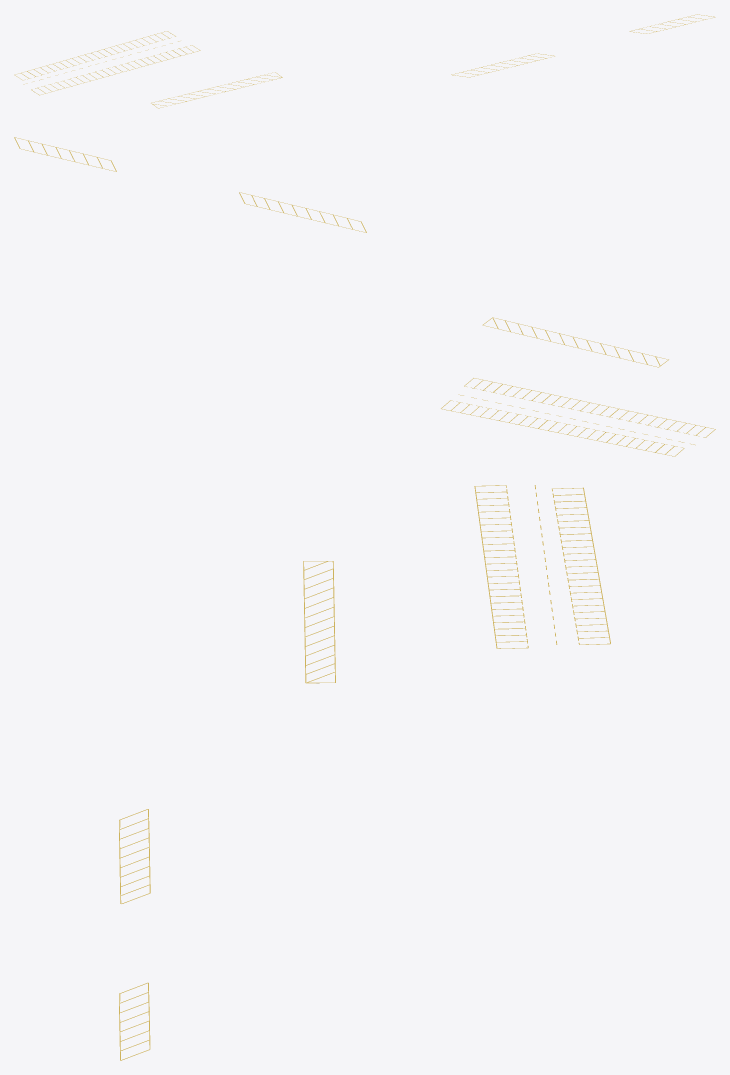
Rendered from 地面標線.fbx.
3 views of the same model, one above another, from view 1: azimuth 30°, elevation 25°; view 2: azimuth 150°, elevation 25°; view 3: azimuth 270°, elevation 25° (orthographic). The views are drawn at different scales.
Visible parts, largest first — view 1: 平面.117, 平面.119, 平面.120; view 2: 平面.117; view 3: 平面.117.
Boxes of the visible parts, left/top/right/bottom form: 平面.117: left=151, top=72, right=282, bottom=108; 平面.119: left=451, top=53, right=554, bottom=77; 平面.120: left=629, top=14, right=715, bottom=33; 平面.117: left=482, top=317, right=668, bottom=367; 平面.117: left=303, top=561, right=335, bottom=683.
Size of the model in its own units: 13773 by 9.49 by 4985.
